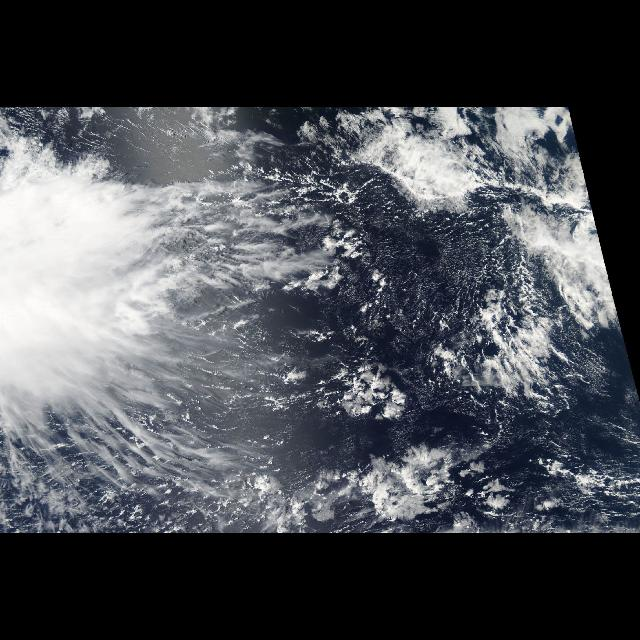Fish: (330, 110, 640, 402)
